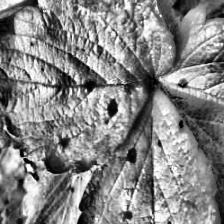Leaf Spot: (27, 59, 148, 171), (127, 58, 224, 149)
